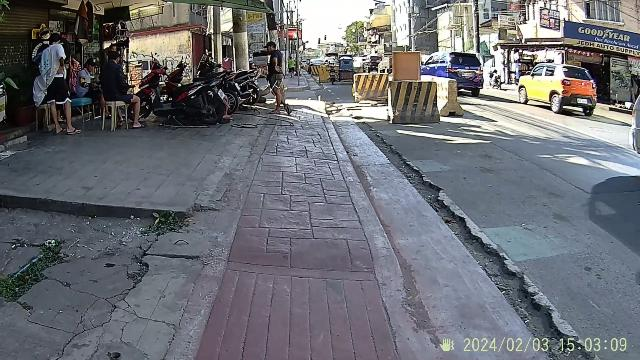car: (520, 64, 596, 114)
cracked_pavement: (2, 238, 158, 340), (92, 199, 216, 275), (440, 214, 522, 302), (402, 167, 458, 227)
